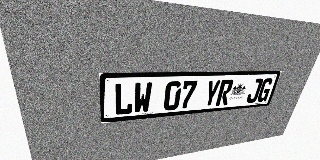0: (163, 81, 182, 111)
7: (178, 80, 198, 110)
G: (256, 78, 274, 102)
J: (245, 78, 264, 103)
L: (114, 82, 134, 116)
R: (215, 79, 234, 106)
W: (133, 82, 153, 114)
Y: (202, 80, 221, 107)
